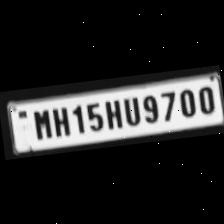0: (193, 82, 217, 115), (174, 84, 196, 118)
1: (66, 101, 86, 135)
5: (80, 98, 104, 133)
7: (155, 87, 178, 122)
9: (137, 90, 160, 123)
H: (100, 96, 124, 130), (49, 104, 72, 138)
M: (28, 106, 54, 140)
U: (120, 93, 142, 126)
